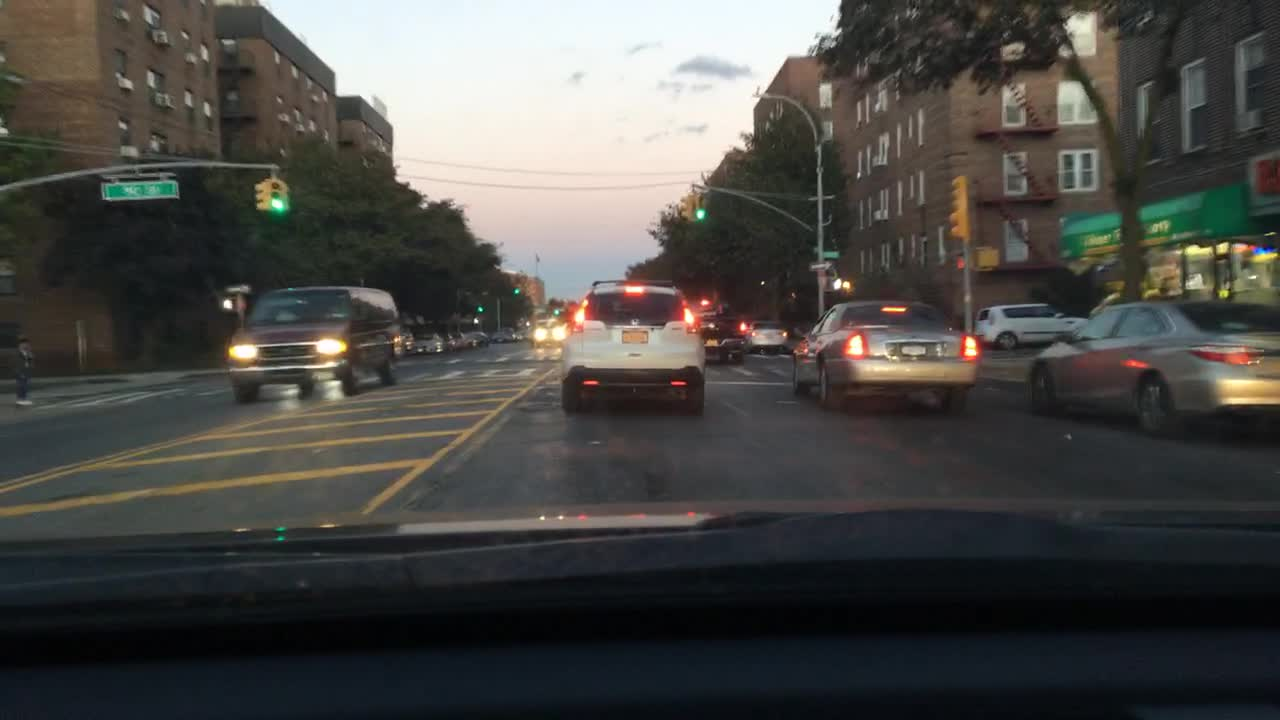car: (1025, 288, 1278, 435), (790, 298, 977, 414), (223, 285, 399, 402), (558, 278, 705, 417), (974, 303, 1088, 350), (702, 315, 748, 360), (743, 319, 789, 354), (403, 329, 448, 353), (530, 319, 567, 343), (449, 330, 489, 348), (489, 325, 515, 341), (400, 330, 416, 352), (512, 329, 530, 341)
person: (14, 337, 33, 403)
traffic light: (947, 175, 972, 240), (975, 242, 999, 269), (269, 178, 284, 212), (253, 177, 268, 211), (680, 192, 695, 223), (951, 252, 965, 270), (695, 192, 703, 218), (220, 295, 233, 310), (827, 278, 842, 289), (512, 285, 520, 295), (472, 316, 478, 324), (477, 303, 482, 312), (553, 307, 559, 314)
traffic sign: (99, 181, 180, 199), (808, 262, 830, 269), (820, 250, 839, 257)
